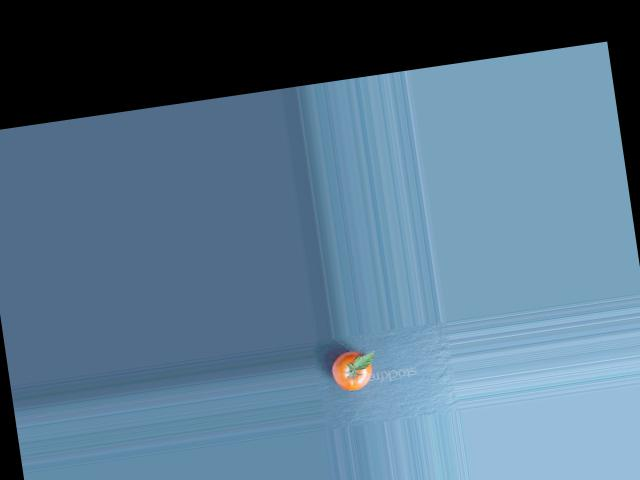tomato: (329, 349, 374, 392)
